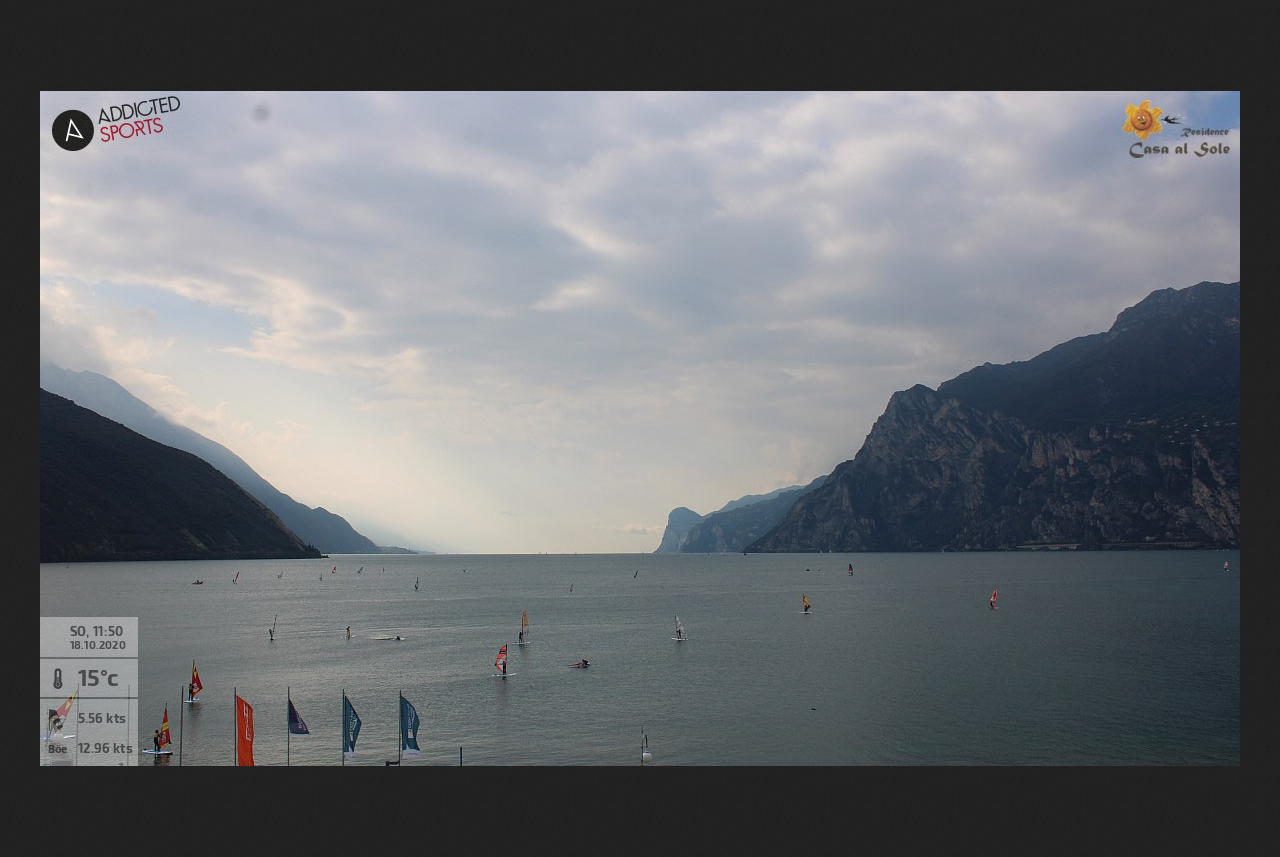maybe: (231, 686, 259, 772), (396, 688, 423, 753), (339, 686, 363, 758), (281, 693, 316, 742)
